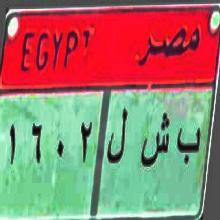0: (54, 127, 69, 176)
1: (3, 115, 21, 176)
2: (77, 112, 96, 175)
6: (27, 119, 46, 172)
baa: (176, 111, 204, 174)
laam: (105, 104, 133, 173)
sheen: (140, 110, 172, 177)
